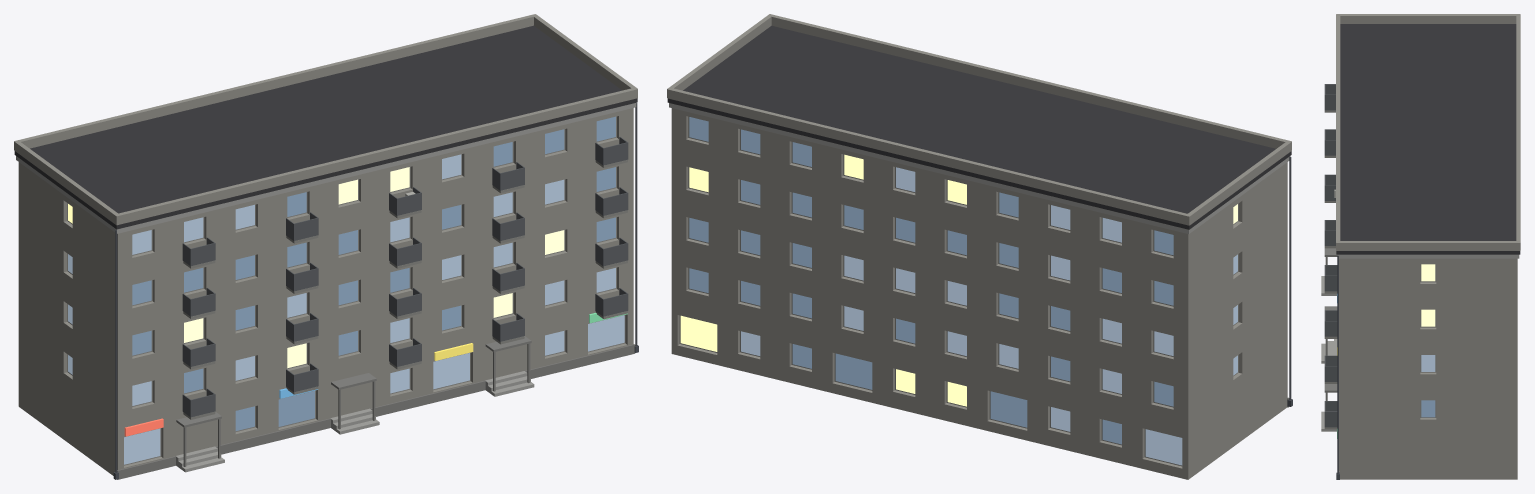
Rendered from panel5_khrushchev.glb.
3 views of the same model, side by side, from view 1: azimuth 30°, elevation 25°; view 2: azimuth 150°, elevation 25°; view 3: azimuth 270°, elevation 25° (orthographic). The views are drawn at different scales.
Parts seen in each view (by area): view 1: facade_front, roof_slab, facade_left, parapet_y, parapet_y.001, plinth, cornice, parapet_x, parapet_x.001, downpipe, downpipe.001; view 2: facade_back, roof_slab, facade_left, parapet_y.001, parapet_y, cornice, parapet_x, parapet_x.001, downpipe; view 3: facade_right, roof_slab, parapet_x.001, parapet_x, parapet_y, parapet_y.001, cornice, downpipe.001, balcony_side.009, balcony_side.039.
Boxes of the visible parts, box(x1,y1,x2,y2) form: facade_front: box(118, 108, 633, 469); roof_slab: box(14, 25, 637, 229); facade_left: box(18, 162, 117, 475); parapet_y: box(116, 87, 637, 225); parapet_y.001: box(14, 14, 537, 148); plinth: box(117, 344, 635, 479); cornice: box(16, 103, 636, 233); parapet_x: box(14, 141, 120, 224); parapet_x.001: box(532, 14, 637, 90); downpipe: box(115, 230, 117, 472); downpipe.001: box(635, 103, 637, 345); facade_back: box(671, 108, 1188, 479); roof_slab: box(667, 25, 1291, 229); facade_left: box(1188, 162, 1287, 479); parapet_y.001: box(667, 88, 1189, 225); parapet_y: box(770, 14, 1291, 148); cornice: box(669, 103, 1290, 233); parapet_x: box(1185, 140, 1291, 225); parapet_x.001: box(667, 14, 773, 97); downpipe: box(1289, 156, 1291, 399); facade_right: box(1339, 258, 1517, 479); roof_slab: box(1336, 24, 1520, 254); parapet_x.001: box(1336, 241, 1520, 250); parapet_x: box(1336, 14, 1520, 23); parapet_y: box(1336, 14, 1340, 250); parapet_y.001: box(1516, 14, 1520, 250); cornice: box(1337, 254, 1519, 258); downpipe.001: box(1337, 255, 1338, 473); balcony_side.009: box(1324, 411, 1337, 427); balcony_side.039: box(1324, 275, 1337, 291).
Size of what is drawn, in the model's own units: 30.44 by 14.72 by 11.17.
